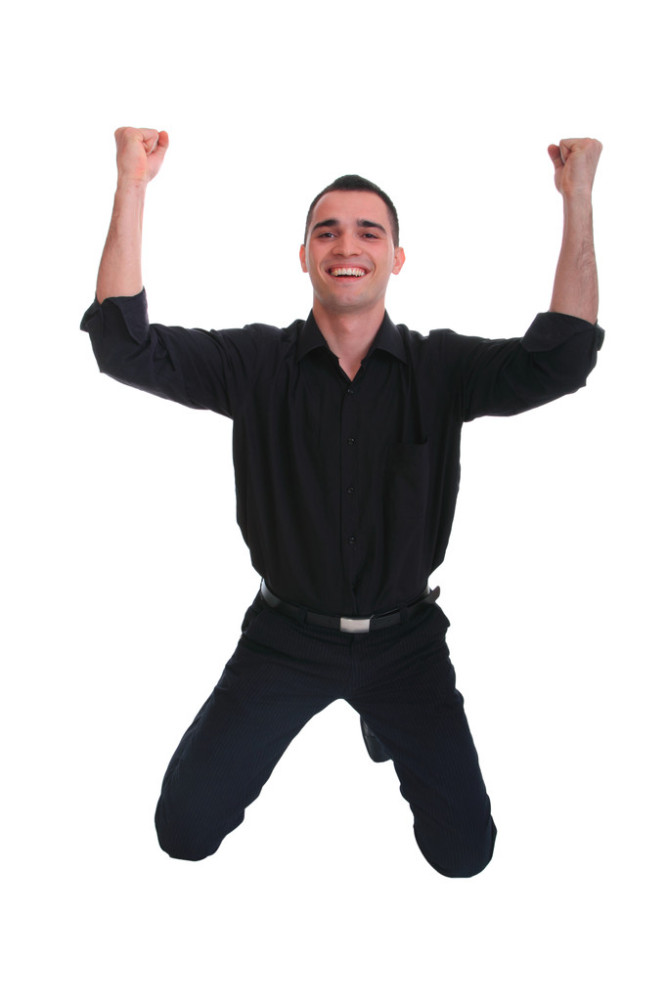handsup: (85, 105, 626, 893)
